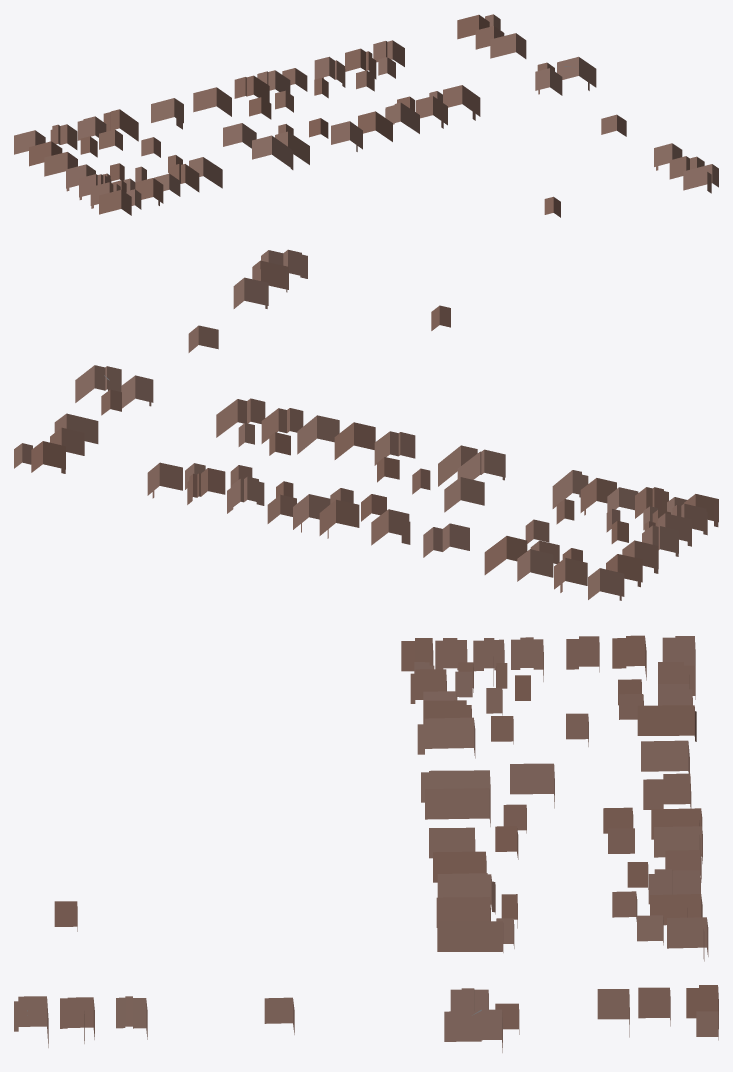
The model's file is c_1641_17830_buildings_residential.glb.
3 views of the same model, one above another, from view 1: azimuth 30°, elevation 25°; view 2: azimuth 150°, elevation 25°; view 3: azimuth 270°, elevation 25° (orthographic). The views are drawn at different scales.
Visible parts, largest first — view 1: geometry_0; view 2: geometry_0; view 3: geometry_0.
Boxes of the visible parts, <box> form: geometry_0: <box>14,14,718,217</box>; geometry_0: <box>14,249,718,600</box>; geometry_0: <box>14,635,718,1052</box>.
Size of the model in its own units: 262 by 9.58 by 200.
